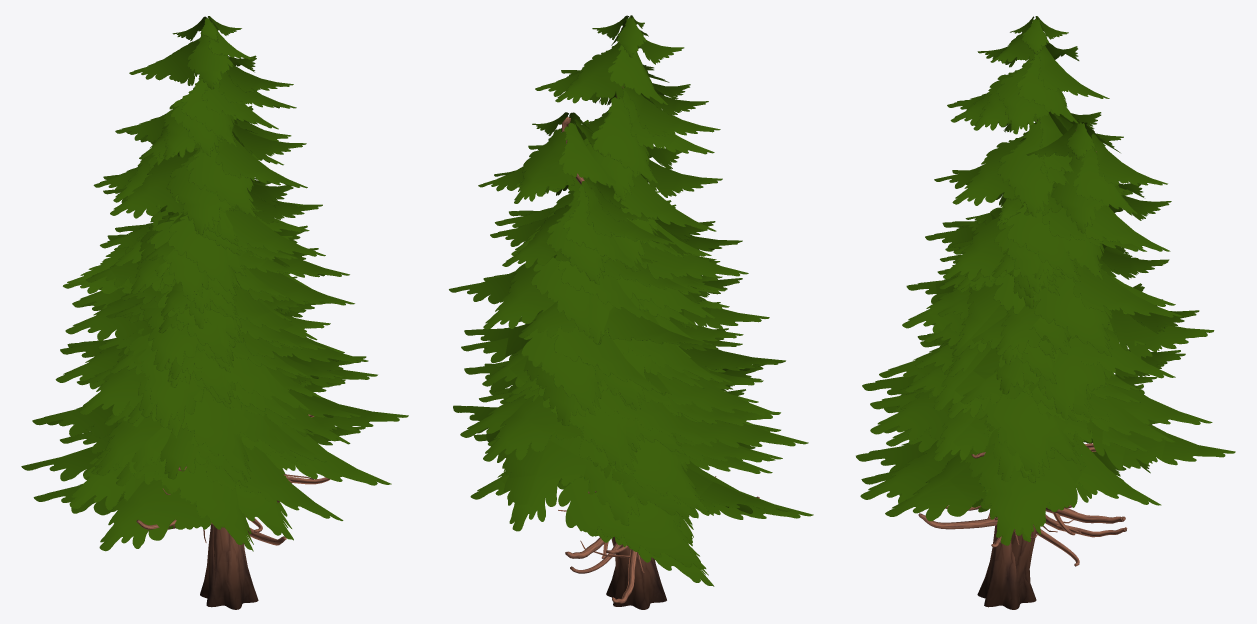
The model's file is trees_pine.glb.
3 views of the same model, side by side, from view 1: azimuth 30°, elevation 25°; view 2: azimuth 150°, elevation 25°; view 3: azimuth 270°, elevation 25° (orthographic). The views are drawn at different scales.
Visible parts, largest first — view 1: Pine_4, Pine_5, Pine_2, Pine_1, Pine_3; view 2: Pine_5, Pine_4, Pine_2, Pine_1, Pine_3; view 3: Pine_4, Pine_5, Pine_2, Pine_1, Pine_3.
Part boxes in pixels (x1=…): Pine_4: x1=32, y1=16, x2=368, y2=609; Pine_5: x1=21, y1=90, x2=408, y2=609; Pine_2: x1=33, y1=206, x2=365, y2=551; Pine_1: x1=60, y1=205, x2=345, y2=503; Pine_3: x1=77, y1=212, x2=326, y2=532; Pine_5: x1=449, y1=112, x2=791, y2=609; Pine_4: x1=460, y1=15, x2=808, y2=603; Pine_2: x1=470, y1=179, x2=813, y2=586; Pine_1: x1=488, y1=191, x2=782, y2=558; Pine_3: x1=505, y1=225, x2=758, y2=573; Pine_4: x1=862, y1=16, x2=1185, y2=609; Pine_5: x1=861, y1=119, x2=1235, y2=609; Pine_2: x1=856, y1=203, x2=1161, y2=541; Pine_1: x1=884, y1=198, x2=1157, y2=535; Pine_3: x1=905, y1=246, x2=1145, y2=566.
Bounding box in the file's own units: 6.42 × 10.24 × 6.31.
2 materials, 2 textured.
